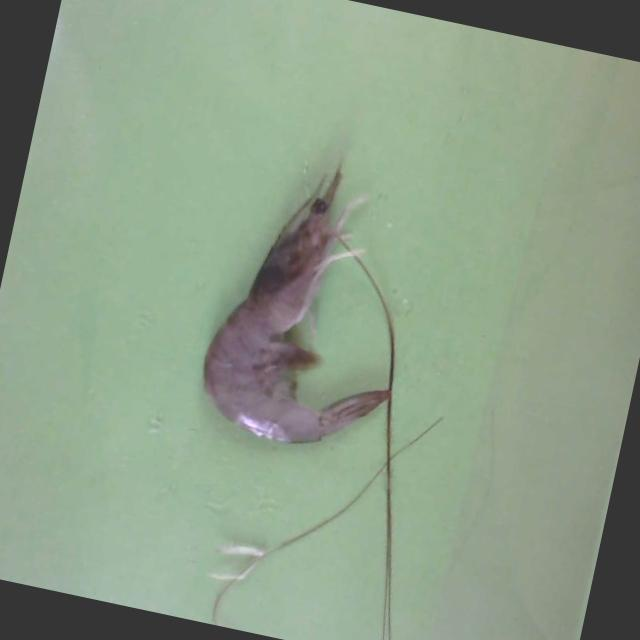shrimp: (204, 169, 390, 442)
